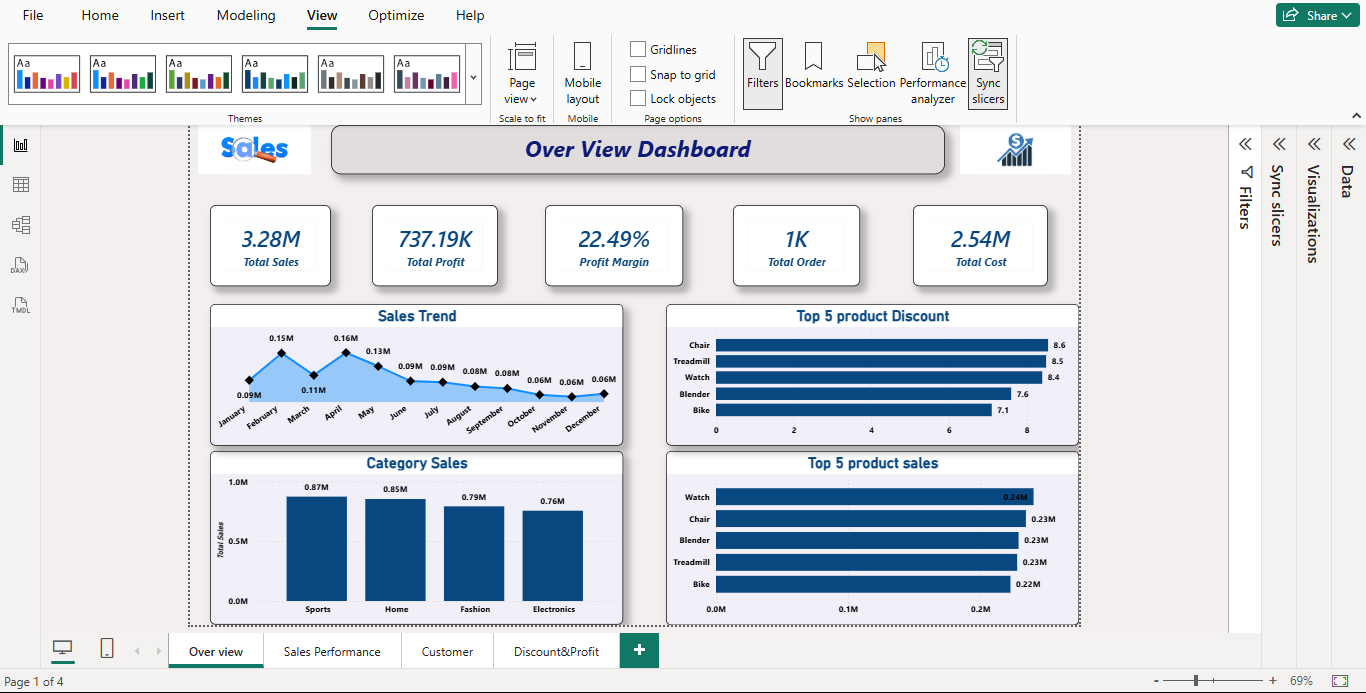

The dashboard page shown, as its layout file describes it:
{"tool":"powerbi","page":{"name":"Over view","canvas":[1280,720],"ordinal":0},"visuals":[{"type":"textbox","box":[203.3,0,883.6,70.6],"z":0},{"type":"image","box":[11.8,0,162.9,70.6],"z":1000},{"type":"image","box":[1108.7,0,159.6,70.6],"z":2000},{"type":"cardVisual","fields":{"Data":["sales_dataset.Total Cost"]},"box":[1041.1,115.2,194.4,116.6],"z":3000},{"type":"cardVisual","fields":{"Data":["sales_dataset.Total Order"]},"box":[781.9,115.2,182.9,116.6],"z":4000},{"type":"cardVisual","fields":{"Data":["sales_dataset.Total Profit"]},"box":[262.1,115.2,181.4,116.6],"z":5000},{"type":"cardVisual","fields":{"Data":["sales_dataset.Total Sales"]},"box":[28.8,115.2,174.2,116.6],"z":6000},{"type":"cardVisual","fields":{"Data":["sales_dataset.Profit Margin"]},"box":[511.2,115.2,198.7,116.6],"z":7000},{"type":"clusteredBarChart","title":"Top 5 product sales","fields":{"Category":["sales_dataset.Product"],"Y":["sales_dataset.Total Sales"]},"box":[685.4,469.4,594.7,250.6],"z":8000},{"type":"columnChart","title":" Category Sales ","fields":{"Category":["sales_dataset.Category"],"Y":["sales_dataset.Total Sales"]},"box":[28.2,470.1,595.1,250],"z":9000},{"type":"clusteredBarChart","title":"Top 5 product Discount","fields":{"Category":["sales_dataset.Product"],"Y":["Sum(sales_dataset.Discount)"]},"box":[685.4,257.8,594.7,204.5],"z":11000},{"type":"lineChart","title":"Sales Trend","fields":{"Y":["sales_dataset.Total Sales"],"Category":["sales_dataset.OrderDate.Variation.Date Hierarchy.Month"]},"box":[28.2,257.1,595.1,204.2],"z":12001}]}

Visuals, with their boxes on the page's 1280x720 design canvas (x1, y1, x2, y2). These are canvas units, not pixel positions in the 1366x693 screenshot, which may show the page scaled, cropped or inside an application window:
textbox: 203/0/1087/71
image: 12/0/175/71
image: 1109/0/1268/71
cardVisual - sales_dataset.Total Cost: 1041/115/1236/232
cardVisual - sales_dataset.Total Order: 782/115/965/232
cardVisual - sales_dataset.Total Profit: 262/115/444/232
cardVisual - sales_dataset.Total Sales: 29/115/203/232
cardVisual - sales_dataset.Profit Margin: 511/115/710/232
"Top 5 product sales" clusteredBarChart: 685/469/1280/720
" Category Sales " columnChart: 28/470/623/720
"Top 5 product Discount" clusteredBarChart: 685/258/1280/462
"Sales Trend" lineChart: 28/257/623/461
